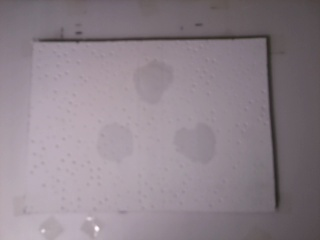Water_detected: (180, 126, 215, 161), (97, 127, 128, 166), (125, 63, 161, 93)
